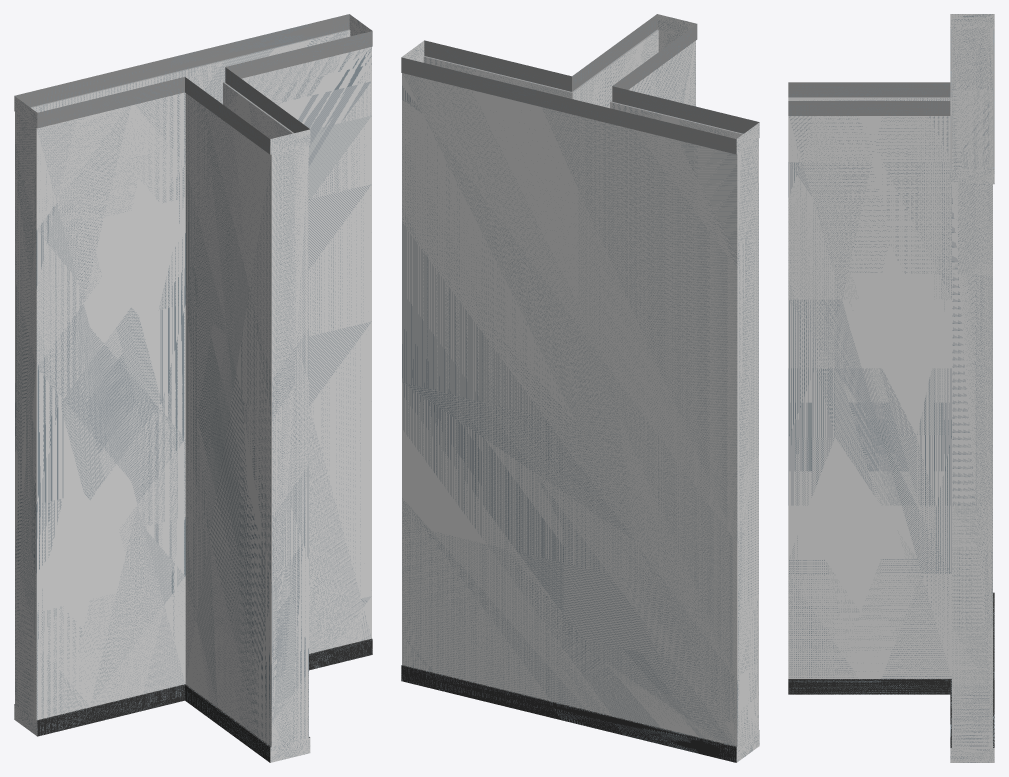
The model's file is Corner_ds_double_plinth_100x100x025x4.dae.
The picture shows the model from 3 angles, left to right: view 1: azimuth 30°, elevation 25°; view 2: azimuth 150°, elevation 25°; view 3: azimuth 270°, elevation 25°; orthographic projection. The views are drawn at different scales.
Visible parts, largest first — view 1: group_0 (×6); view 2: group_0 (×5); view 3: group_0 (×4).
Boxes of the visible parts, bbox=[...] form: group_0 (×6): bbox=[14, 14, 372, 762]; group_0 (×5): bbox=[401, 14, 759, 762]; group_0 (×4): bbox=[788, 14, 994, 762].
Size of the model in its own units: 88.58 by 49.61 by 157.
